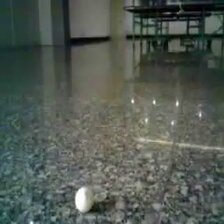w: (75, 187, 93, 211)
